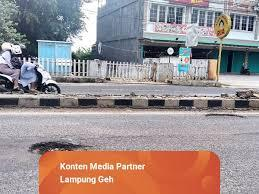Pothole: (22, 138, 92, 157), (198, 106, 249, 122)
